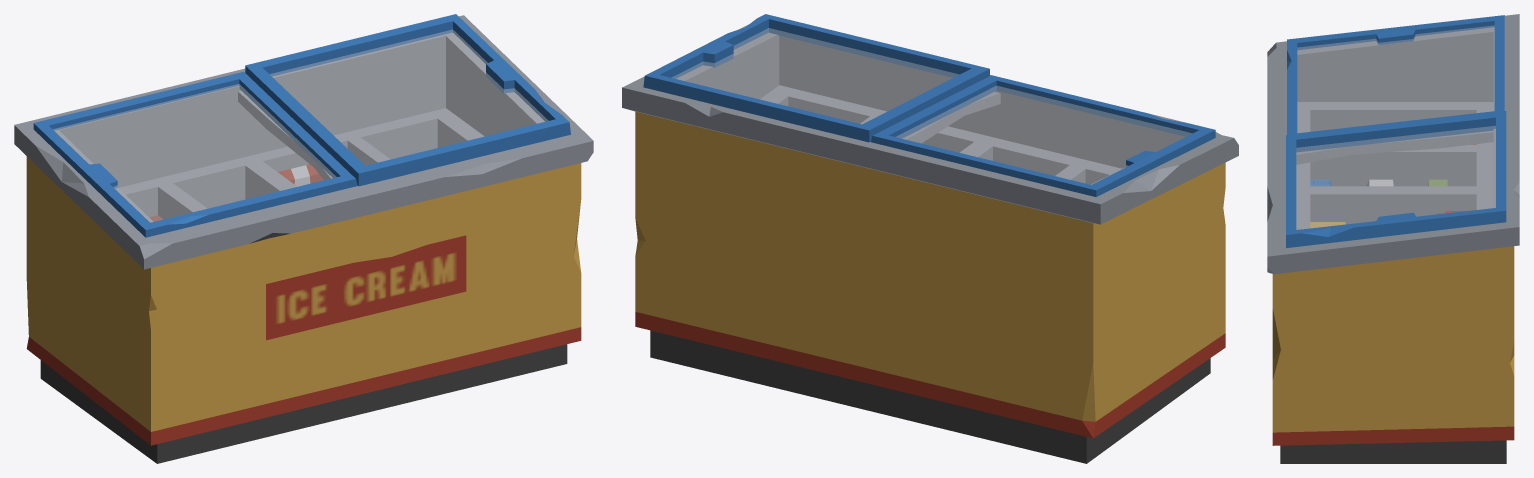
The model's file is SM_Prop_Icecream_Freezer_01.fbx.
3 views of the same model, side by side, from view 1: azimuth 30°, elevation 25°; view 2: azimuth 150°, elevation 25°; view 3: azimuth 270°, elevation 25° (orthographic). The views are drawn at different scales.
Visible parts, largest first — view 1: SM_Prop_Icecream_Freezer_01, SM_Prop_Icecream_Freezer_Door_01, SM_Prop_Icecream_Freezer_Door_02; view 2: SM_Prop_Icecream_Freezer_01, SM_Prop_Icecream_Freezer_Door_01, SM_Prop_Icecream_Freezer_Door_02; view 3: SM_Prop_Icecream_Freezer_01, SM_Prop_Icecream_Freezer_Door_01, SM_Prop_Icecream_Freezer_Door_02.
Boxes of the visible parts, x1,y1,x2,y2 form: SM_Prop_Icecream_Freezer_01: (14, 15, 593, 463); SM_Prop_Icecream_Freezer_Door_01: (245, 14, 570, 186); SM_Prop_Icecream_Freezer_Door_02: (33, 71, 357, 237); SM_Prop_Icecream_Freezer_01: (622, 24, 1238, 463); SM_Prop_Icecream_Freezer_Door_01: (643, 14, 989, 142); SM_Prop_Icecream_Freezer_Door_02: (871, 75, 1215, 196); SM_Prop_Icecream_Freezer_01: (1267, 14, 1519, 463); SM_Prop_Icecream_Freezer_Door_01: (1286, 111, 1506, 248); SM_Prop_Icecream_Freezer_Door_02: (1287, 15, 1504, 134).
Size of the model in its own units: 152 by 84.86 by 75.89.
